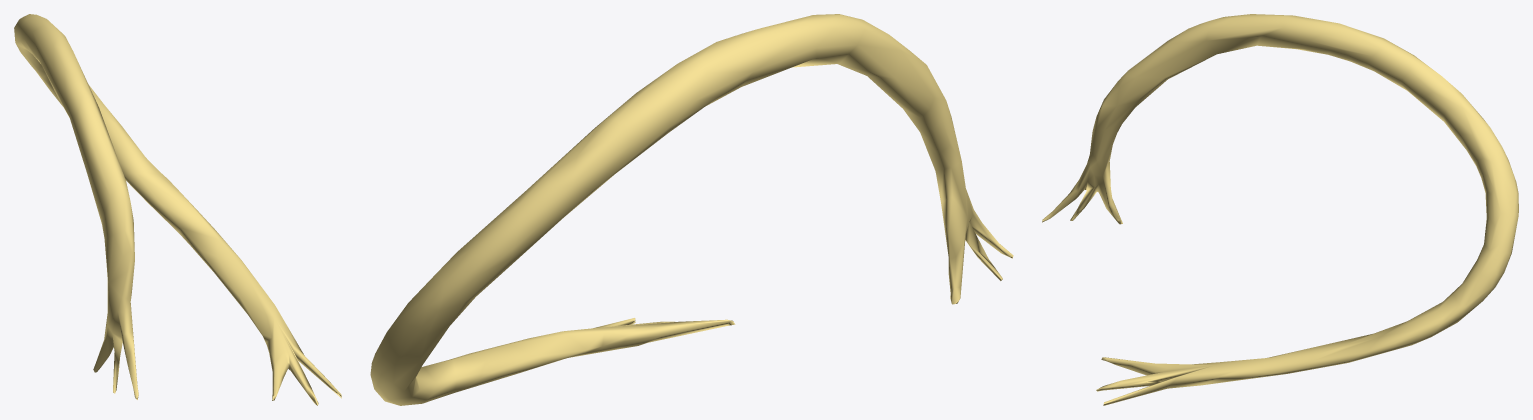
The picture shows the model from 3 angles, left to right: view 1: azimuth 30°, elevation 25°; view 2: azimuth 150°, elevation 25°; view 3: azimuth 270°, elevation 25°; orthographic projection. The views are drawn at different scales.
Visible parts, largest first — view 1: ZA_f01ba87a3766d49c; view 2: ZA_f01ba87a3766d49c; view 3: ZA_f01ba87a3766d49c.
Boxes of the visible parts, left/top/right/bottom form: ZA_f01ba87a3766d49c: left=14, top=14, right=341, bottom=405; ZA_f01ba87a3766d49c: left=370, top=14, right=1013, bottom=405; ZA_f01ba87a3766d49c: left=1042, top=14, right=1518, bottom=405.
Bounding box in the file's own units: 0.0249 × 0.0299 × 0.0423.
